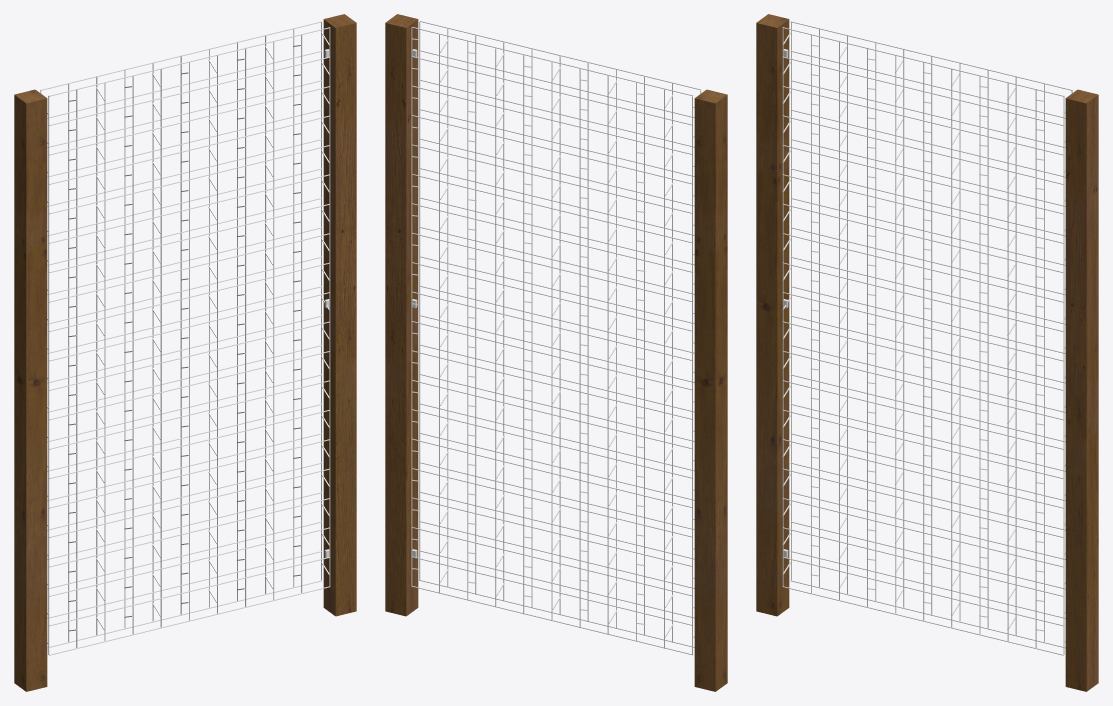
Rendered from toremeshfence_w1100_white_naturalpain.fbx.
3 renders of one model, left to right at view 1: azimuth 30°, elevation 25°; view 2: azimuth 150°, elevation 25°; view 3: azimuth 330°, elevation 25°, orthographic.
Parts seen in each view (by area): view 1: トレメッシュ1100.017; view 2: トレメッシュ1100.017; view 3: トレメッシュ1100.017.
Part boxes in pixels (<box>): トレメッシュ1100.017: <box>14,14,356,691</box>; トレメッシュ1100.017: <box>385,14,727,691</box>; トレメッシュ1100.017: <box>756,14,1098,691</box>.
Bounding box in the file's own units: 117 × 200 × 7.5.
Materials: 3 (3 with a texture image).
